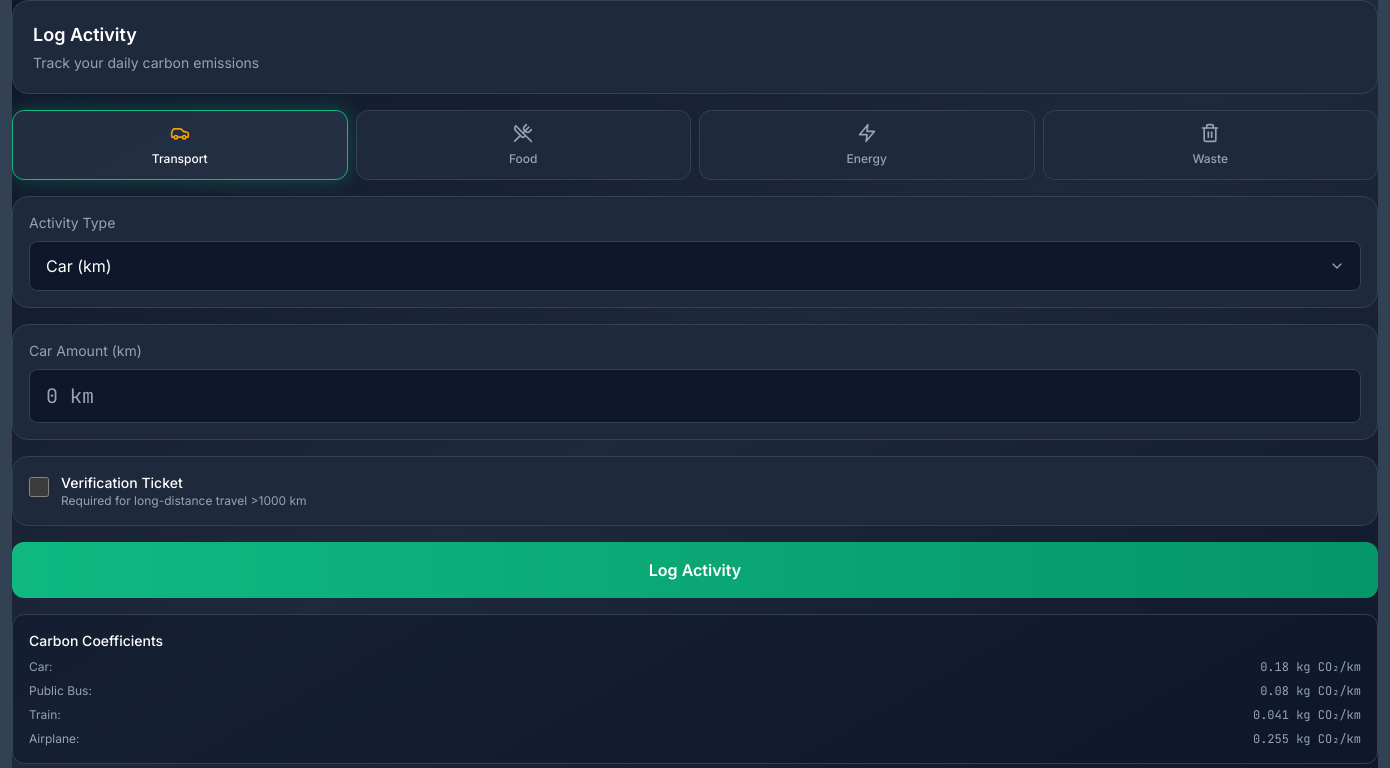
ActivityLogger – Submission › shows error message for invalid input
This screenshot has width=1390, height=768.
Click the button with aria-label "log this activity": (695, 570) [12,542,1378,598]
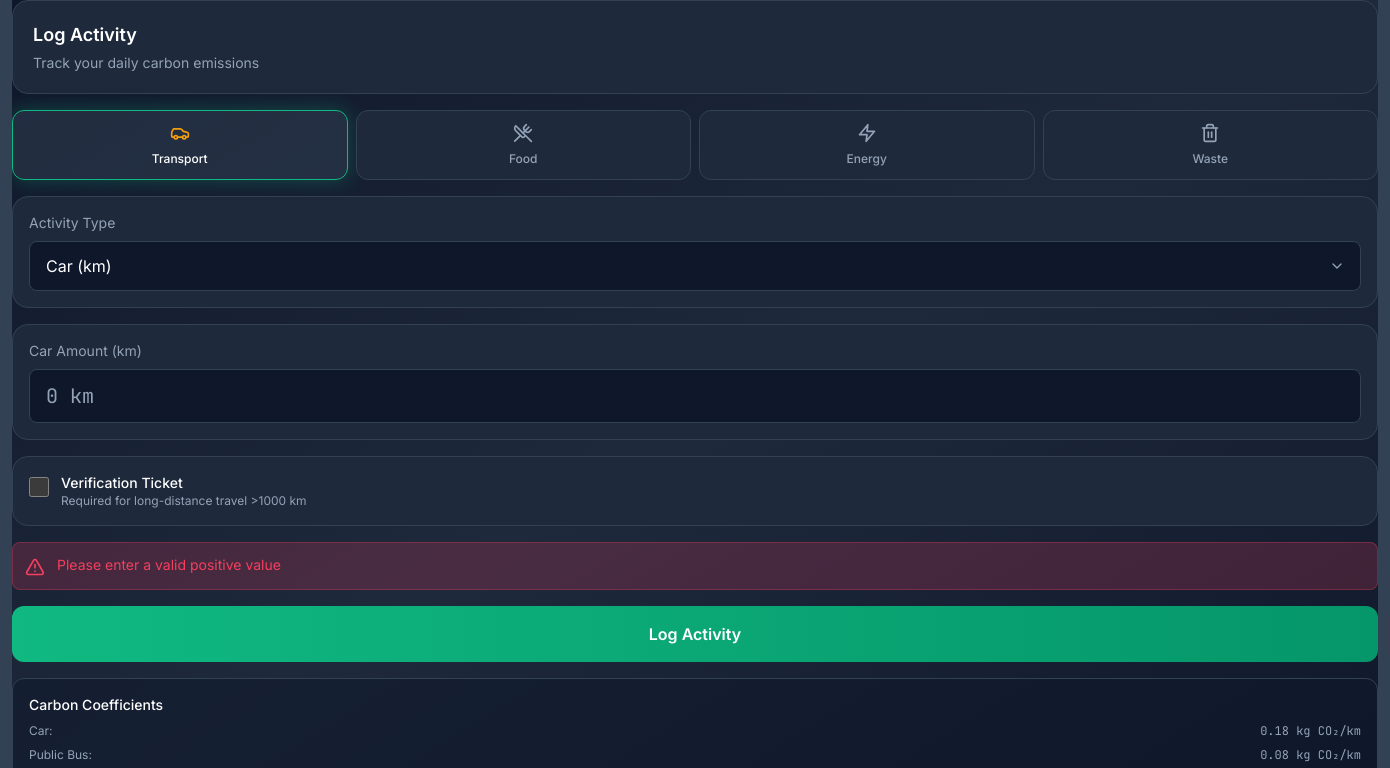
Result: the text "Please enter a valid positive value" is shown at [57,555,281,575]
